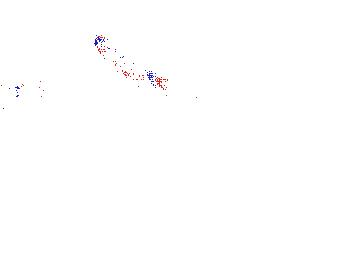X-ray fish: (1, 175, 51, 217)
redtail glassfish: (90, 31, 167, 91)
